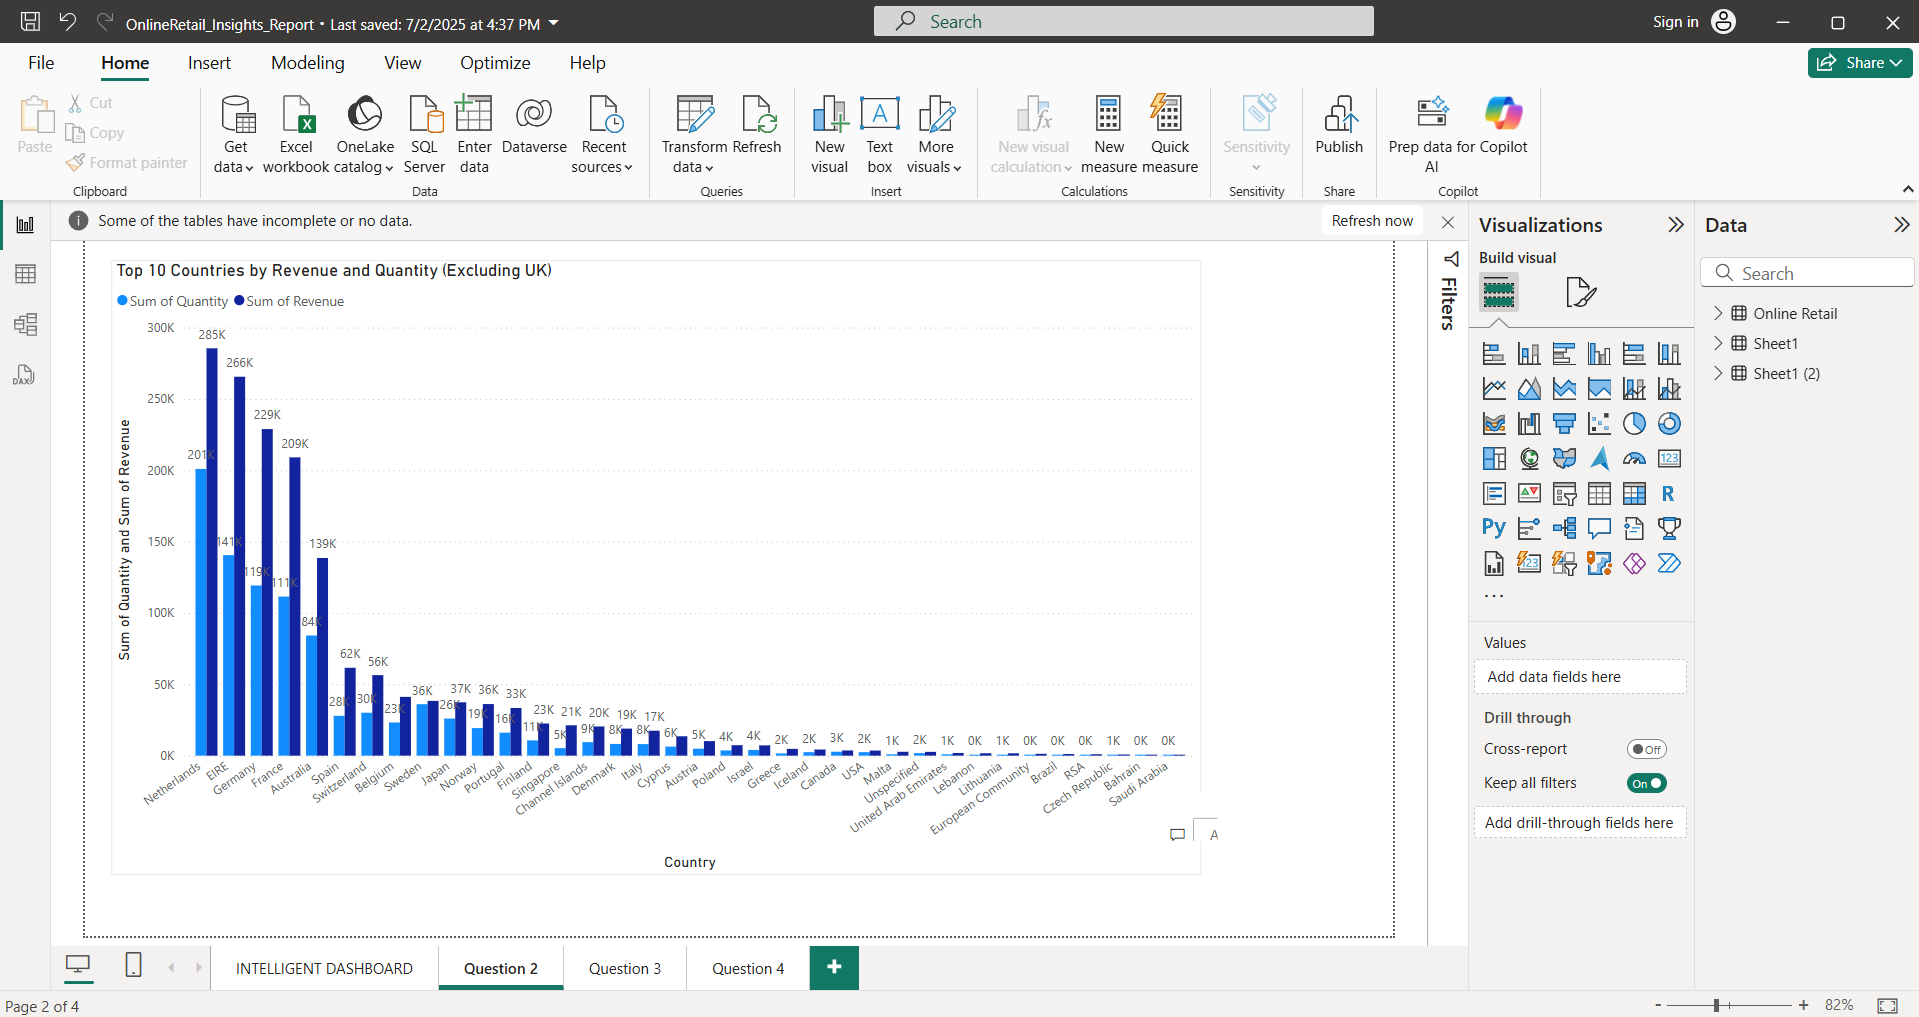

Layout of this report page (visuals, bound fields, positions):
{"tool":"powerbi","page":{"name":"Question 2","canvas":[1280,720],"ordinal":1},"visuals":[{"type":"clusteredColumnChart","title":"Top 10 Countries by Revenue and Quantity (Excluding UK)","fields":{"Category":["Online Retail.Country"],"Y":["Sum(Online Retail.Quantity)","Sum(Online Retail.Revenue)"]},"box":[25.7,58.7,1066.3,601.6],"z":0},{"type":"qnaVisual","box":[1052.5,580,55,47.5],"z":1000}]}

Visuals, with their boxes on the page's 1280x720 design canvas (x1, y1, x2, y2). These are canvas units, not pixel positions in the 1919x1017 screenshot, which may show the page scaled, cropped or inside an application window:
"Top 10 Countries by Revenue and Quantity (Excluding UK)" clusteredColumnChart: 26:59:1092:660
qnaVisual: 1052:580:1108:628
